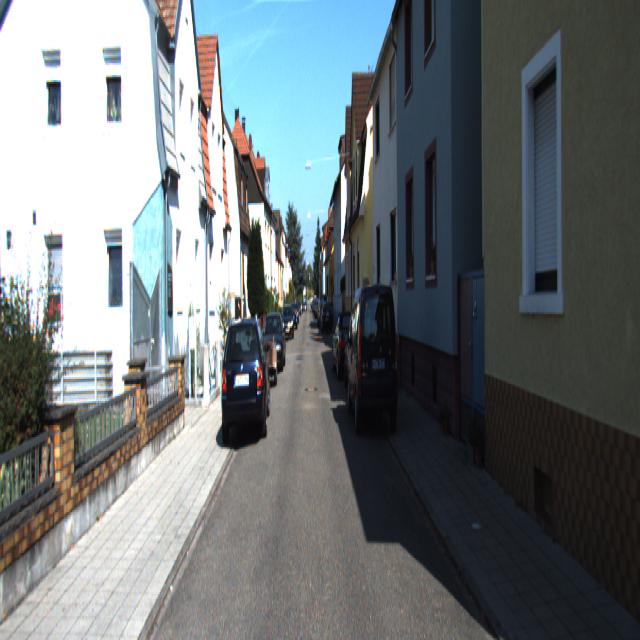Car: (346, 280, 399, 440), (220, 314, 270, 452), (332, 309, 364, 384), (262, 310, 285, 376), (253, 335, 277, 392), (282, 303, 294, 337)
